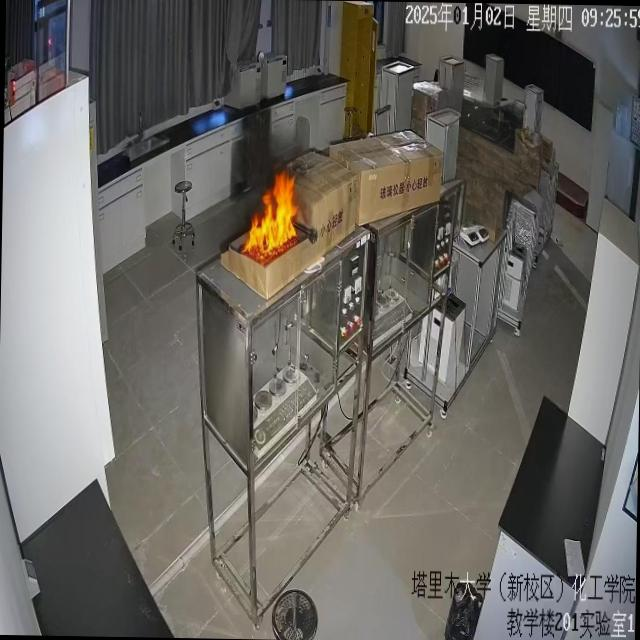fire: (234, 140, 320, 286)
